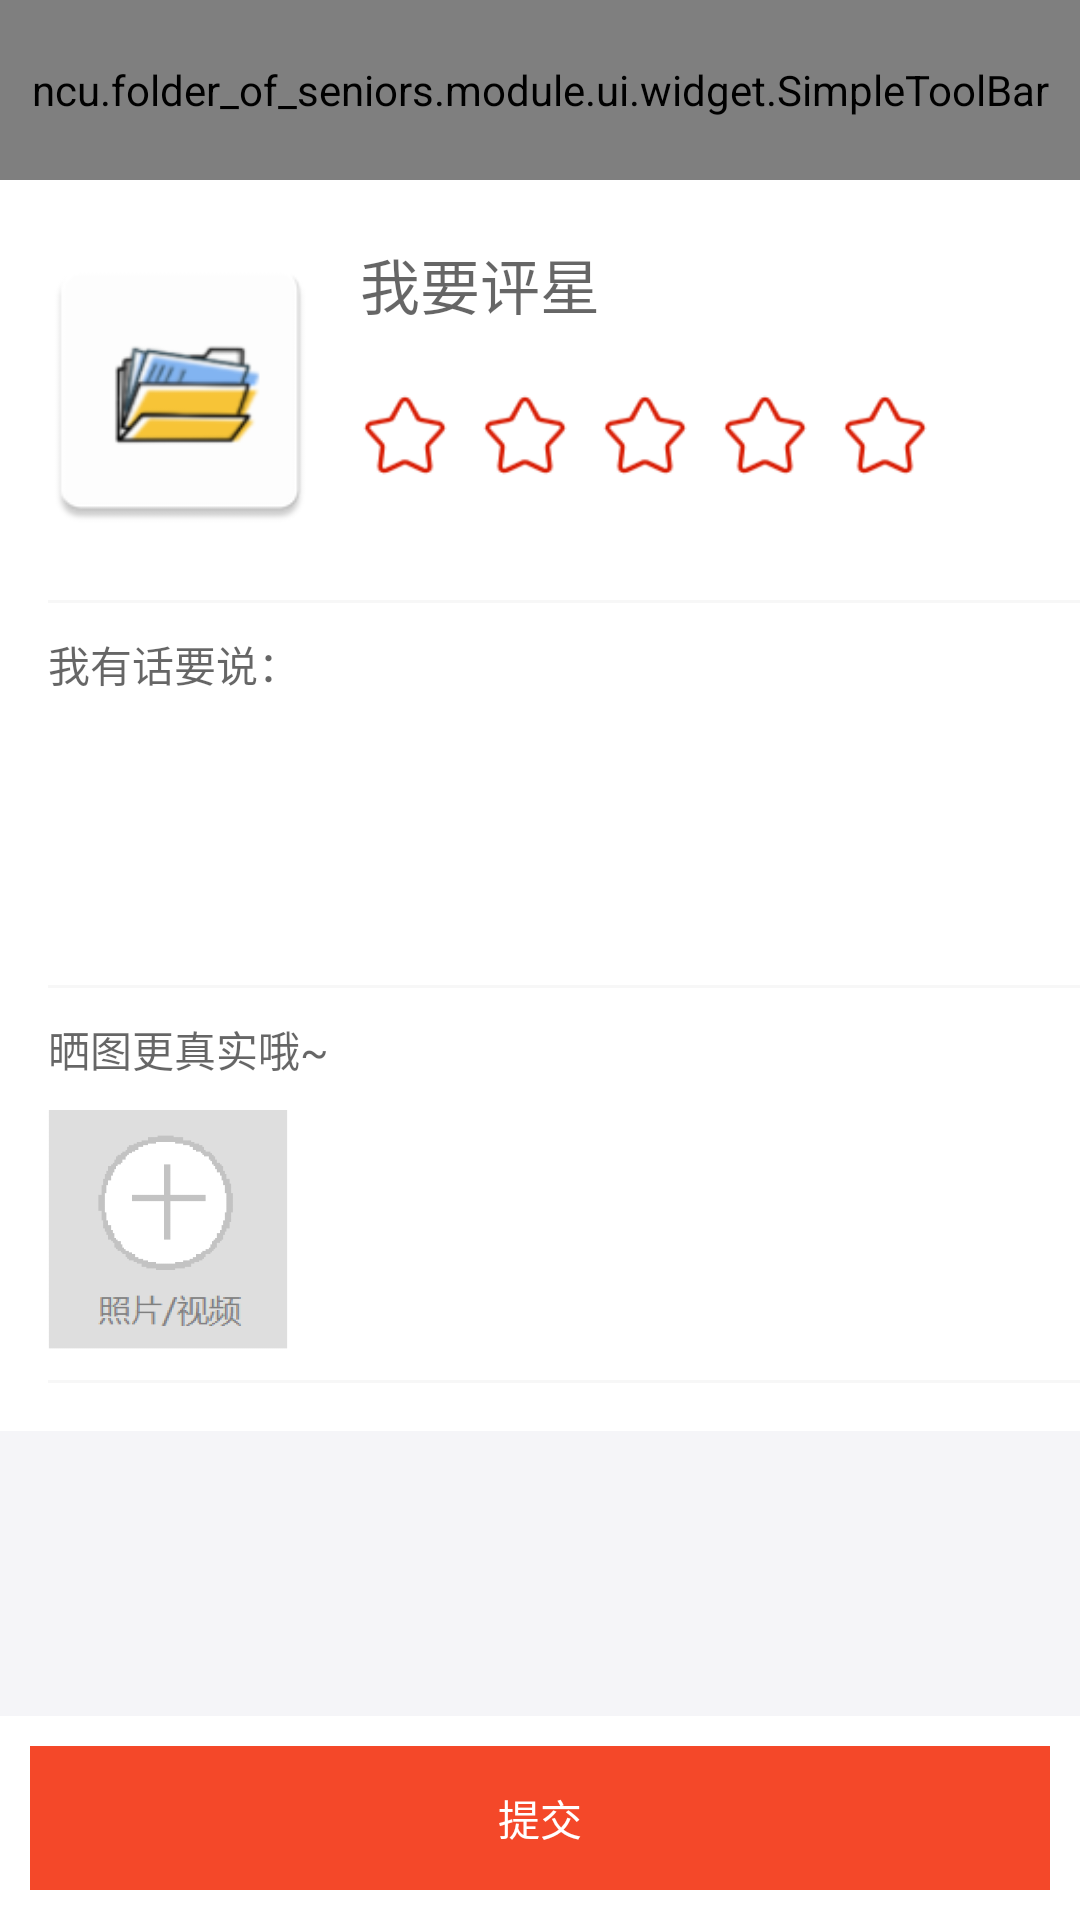

Point at icon controls on the screen. Image size 1080px x 1920px, points as point (x, y).
star off: point (405, 435), point (525, 435), point (645, 435), point (765, 435), point (885, 435)
